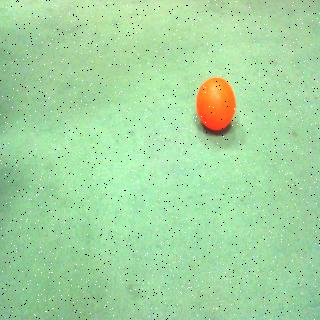orange: (193, 71, 239, 135)
